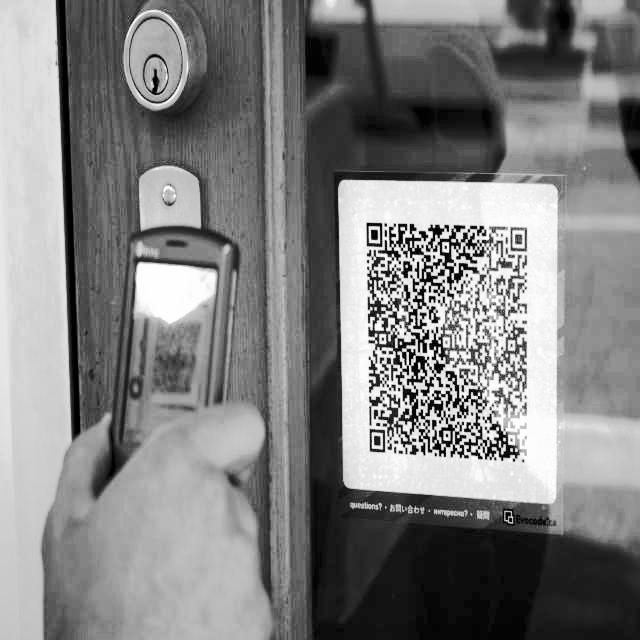qr_code: (366, 223, 527, 463)
